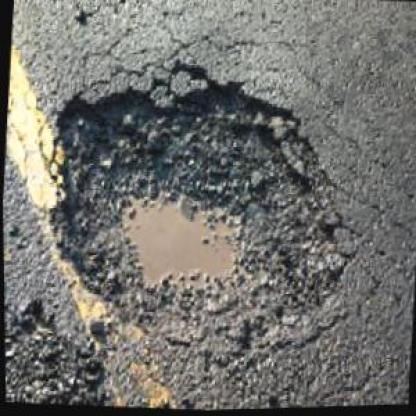pothole: (33, 44, 365, 380)
